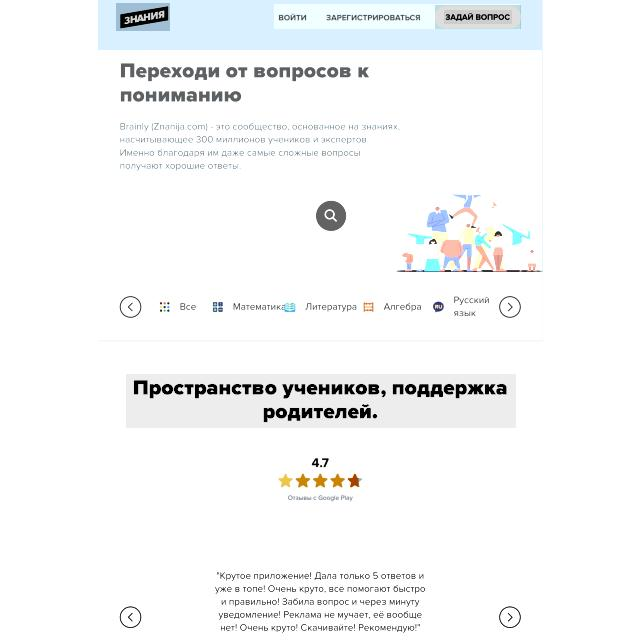CheckBox: (435, 5, 521, 29), (316, 200, 347, 231)
CheckedTextView: (119, 194, 353, 240)
Input field: (118, 119, 404, 178)
Switch: (113, 523, 539, 640), (97, 273, 542, 340)
breadcrumbs: (126, 374, 516, 428)
card: (96, 50, 542, 274)
carousel: (346, 472, 364, 490), (277, 472, 293, 489)
content: (384, 143, 542, 273)
data feed: (444, 10, 512, 23)
date picker: (116, 3, 170, 31)
decoration: (274, 4, 520, 29)
footer: (132, 208, 232, 224)
image: (117, 58, 373, 107)
